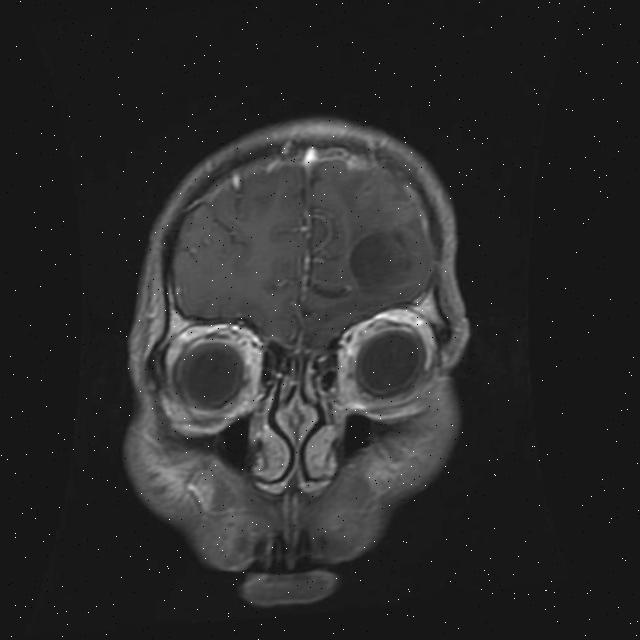Glioma: (343, 222, 423, 298)
